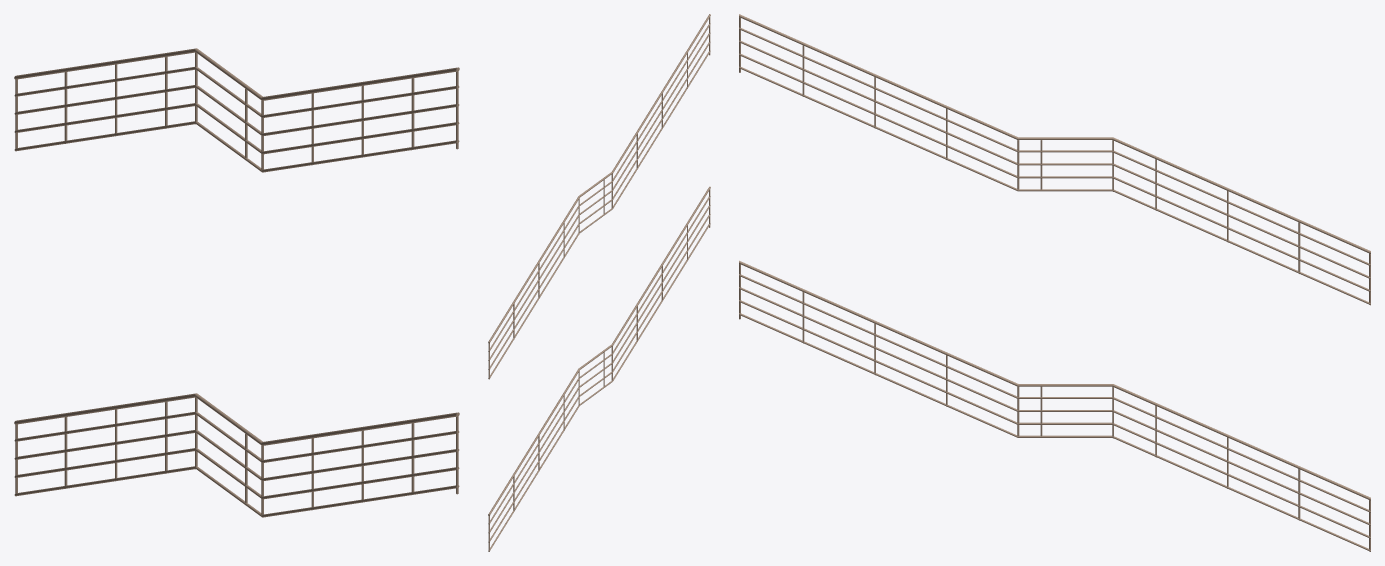
The picture shows the model from 3 angles, left to right: view 1: azimuth 30°, elevation 25°; view 2: azimuth 150°, elevation 25°; view 3: azimuth 270°, elevation 25°; orthographic projection. The views are drawn at different scales.
Visible parts, largest first — view 1: mesh; view 2: mesh; view 3: mesh.
Part boxes in pixels (left/top/right/bottom): mesh: left=14, top=48, right=459, bottom=517; mesh: left=488, top=14, right=710, bottom=551; mesh: left=739, top=14, right=1370, bottom=551.
Bounding box in the file's own units: 0.04 × 8.29 × 8.83.
